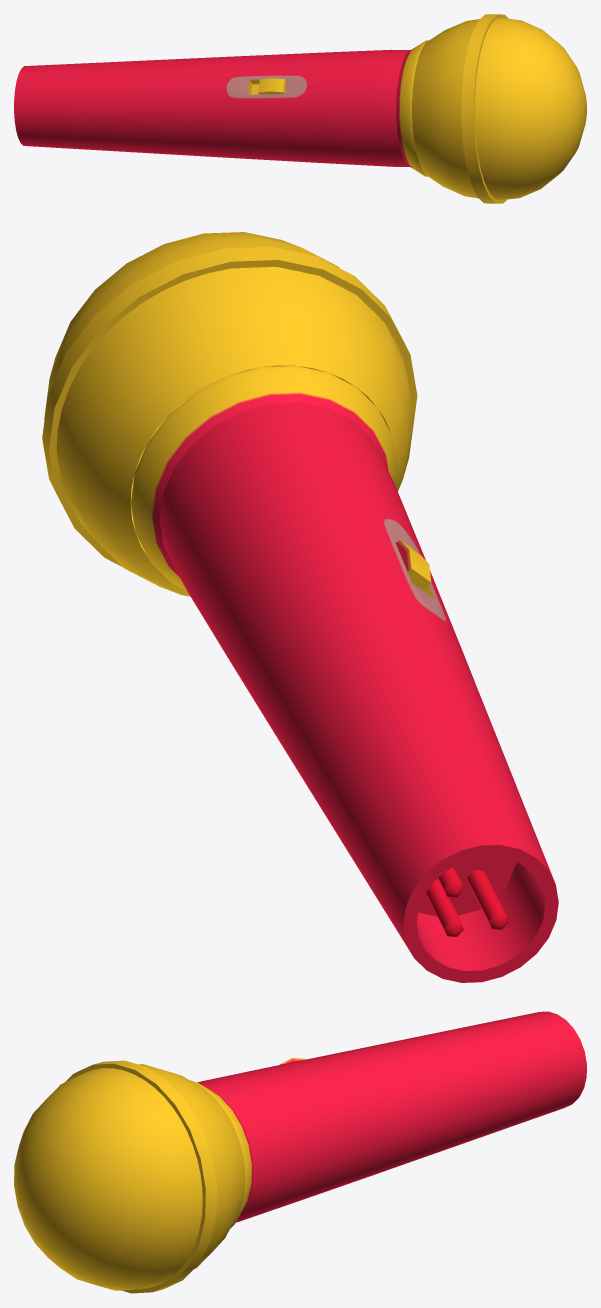
Rendered from mic.gltf.
The picture shows the model from 3 angles, top to bottom: view 1: azimuth 30°, elevation 25°; view 2: azimuth 150°, elevation 25°; view 3: azimuth 270°, elevation 25°; orthographic projection. The views are drawn at different scales.
Visible parts, largest first — view 1: Body_low, Weave_low, Rings_low, Switch_low; view 2: Body_low, Weave_low, Rings_low, Prongs_low; view 3: Body_low, Weave_low, Rings_low.
Part boxes in pixels (box(x1,y1,x2,y2)): Body_low: box(14, 49, 410, 166); Weave_low: box(412, 17, 586, 200); Rings_low: box(396, 14, 508, 203); Switch_low: box(258, 78, 286, 94); Body_low: box(159, 402, 558, 982); Weave_low: box(44, 232, 414, 596); Rings_low: box(42, 247, 516, 916); Prongs_low: box(425, 867, 508, 936); Body_low: box(197, 1011, 586, 1222); Weave_low: box(14, 1064, 245, 1290); Rings_low: box(65, 1060, 253, 1293).
Bounding box in the file's own units: 2.9 × 1.19 × 2.9.
1 material, 1 textured.
